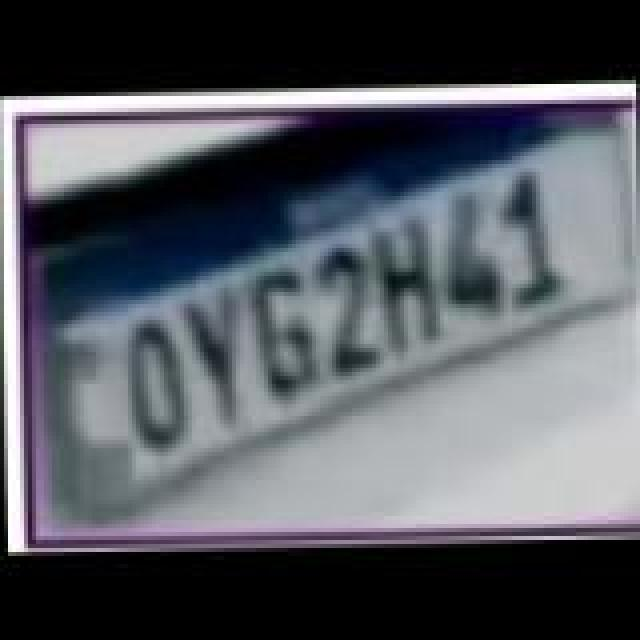1: (504, 178, 568, 310)
2: (316, 248, 384, 380)
4: (440, 200, 504, 320)
G: (250, 270, 322, 398)
H: (374, 224, 446, 352)
O: (126, 324, 194, 456)
Y: (184, 294, 252, 426)
